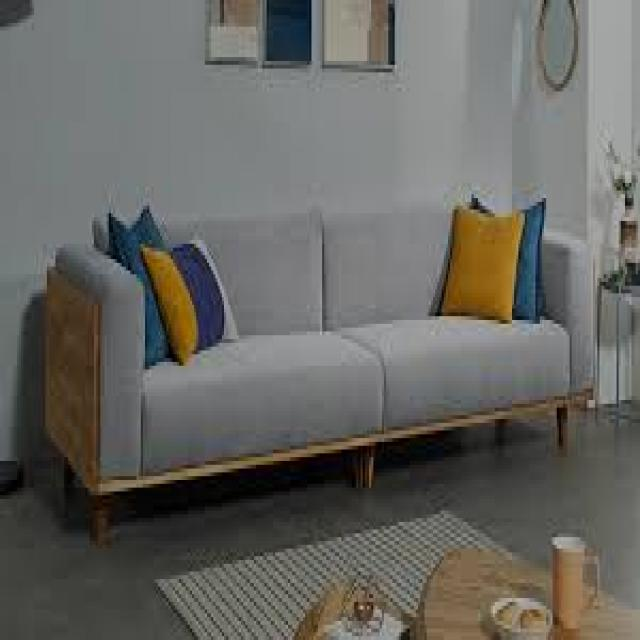Sofa: (23, 152, 604, 566)
